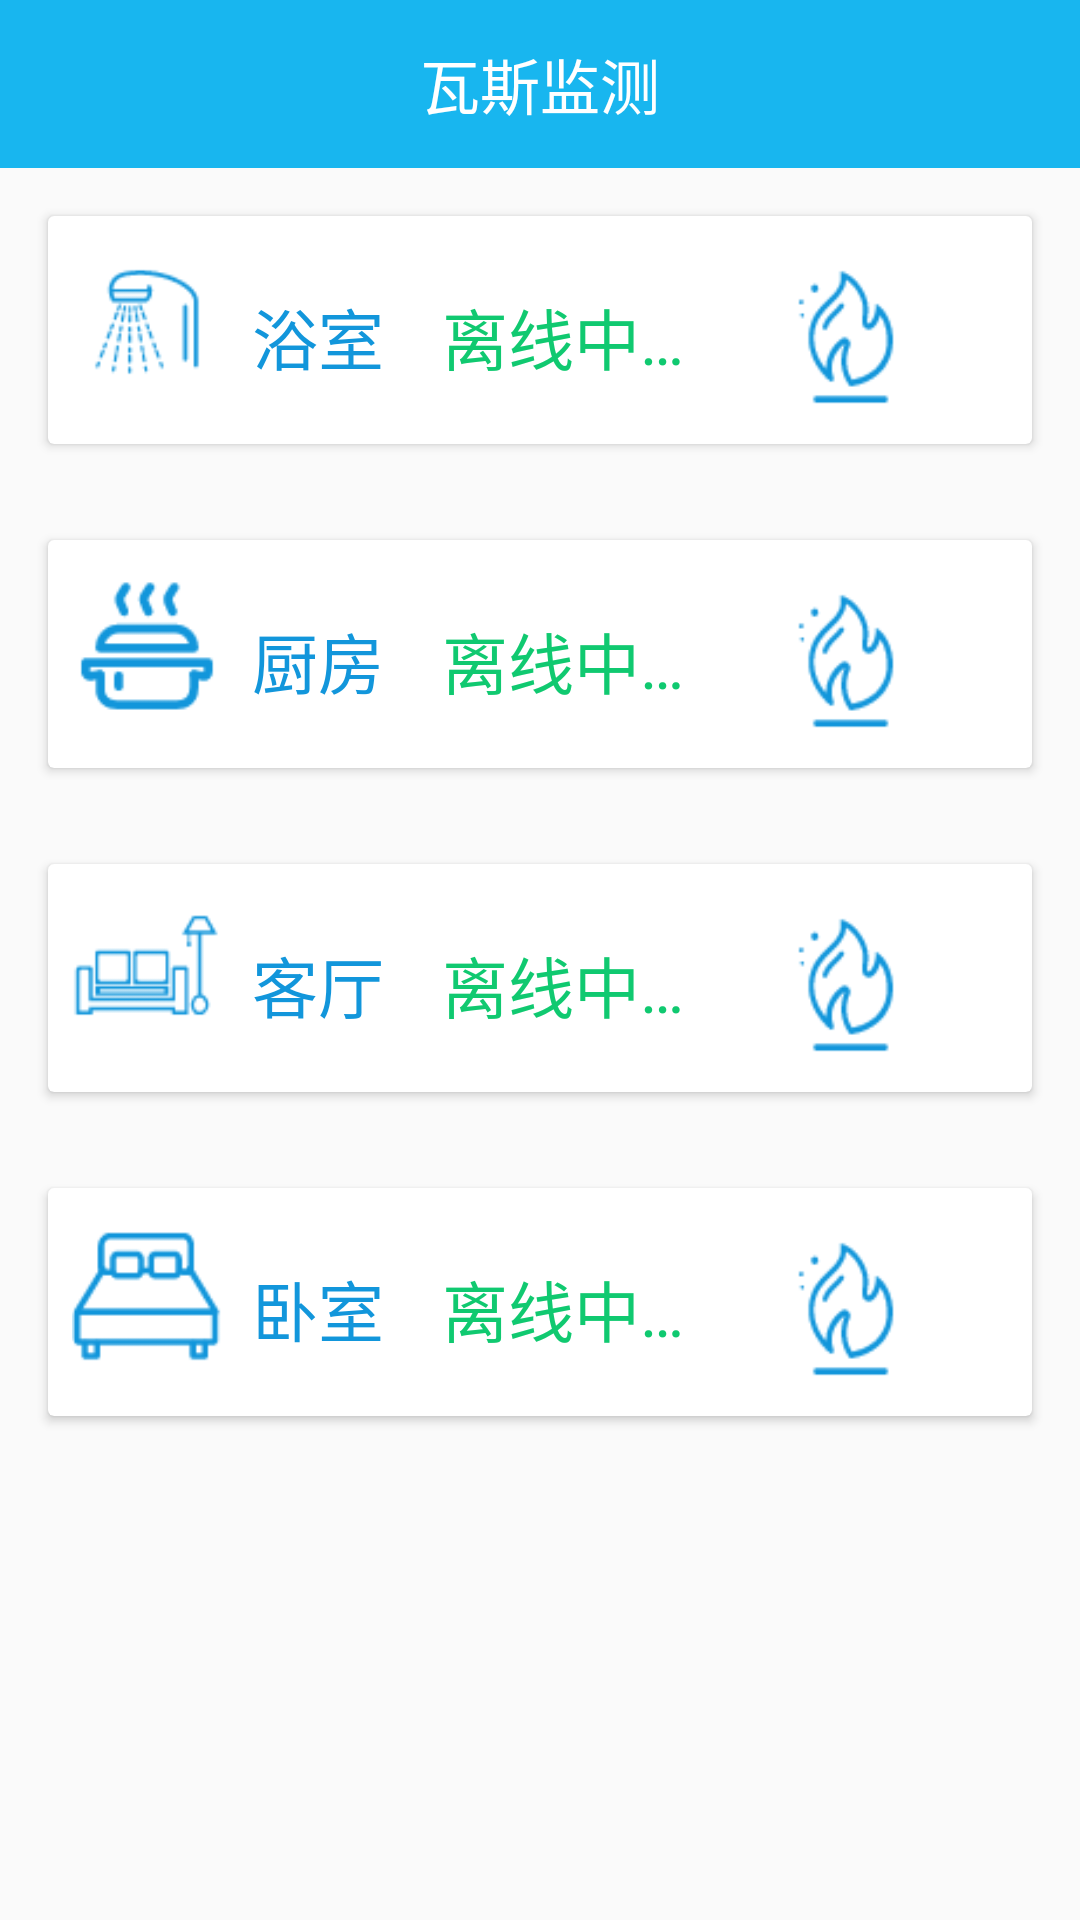

Where to tap for icons on this 1080×1920 app screen, as (x=x, y=y):
bash room: (x=147, y=322)
bed room: (x=146, y=1296)
gas: (x=846, y=337), (x=846, y=661), (x=846, y=985), (x=846, y=1309)
